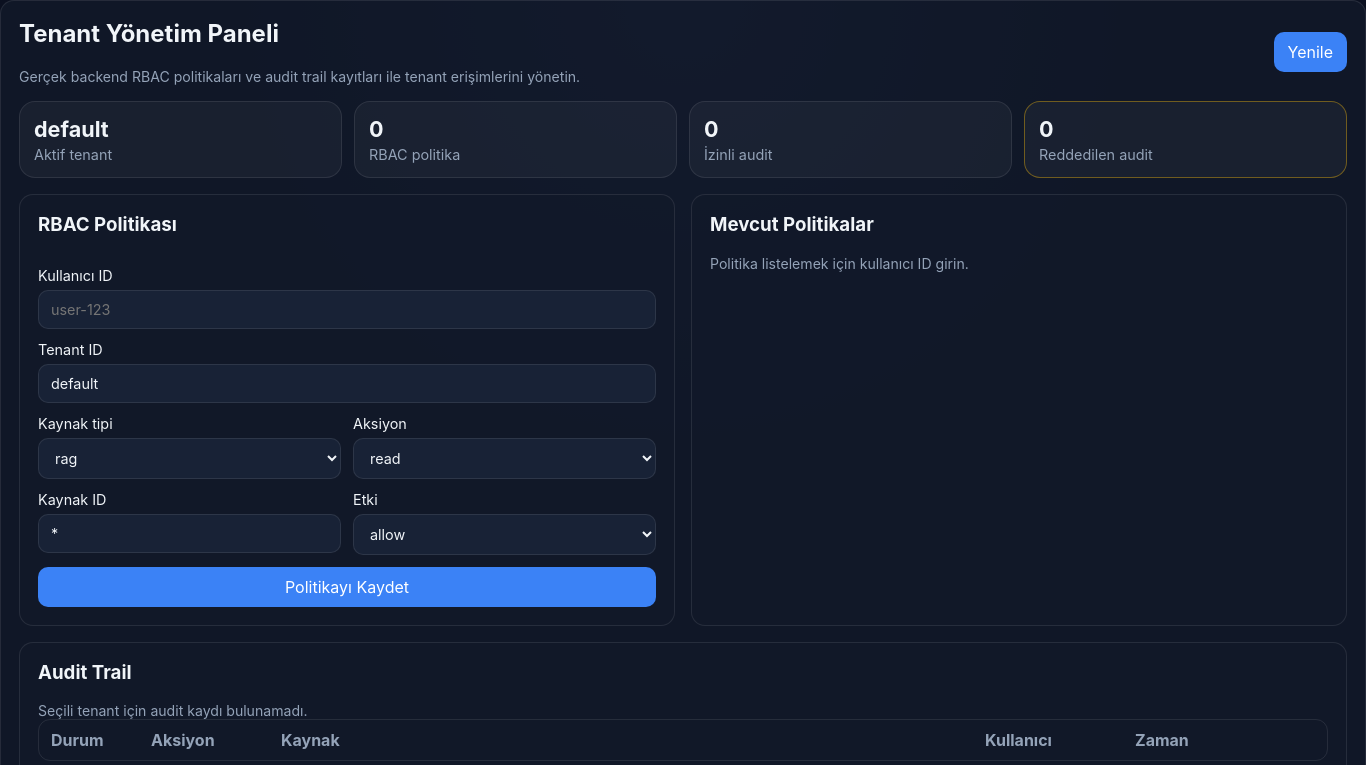
Test: TenantAdminPanel › falls back to empty arrays when audit and policy responses omit items
Step 1. Type "acme" into the field labelled "Tenant ID" → (347, 383), box [38,364,656,403]
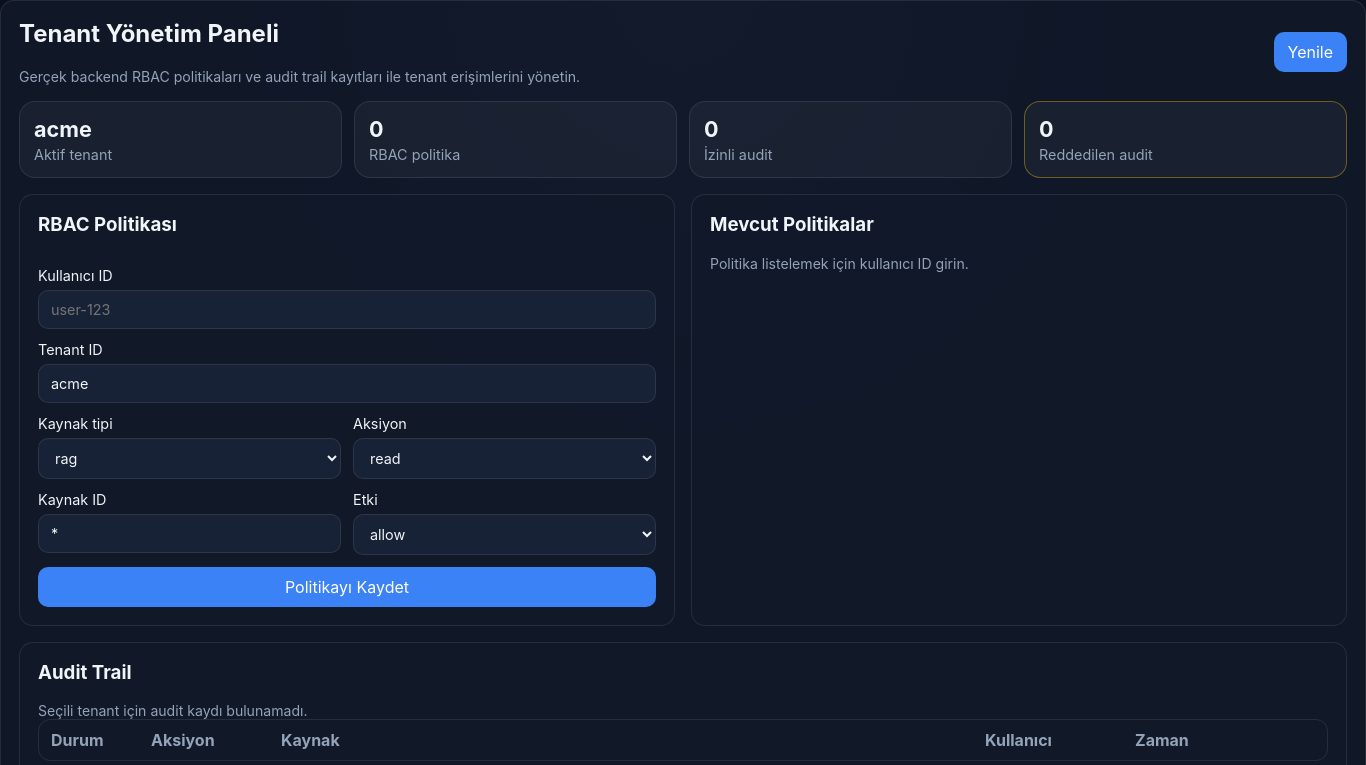
Step 2. Type "user-1" into the field labelled "Kullanıcı ID" → (347, 309), box [38,290,656,329]
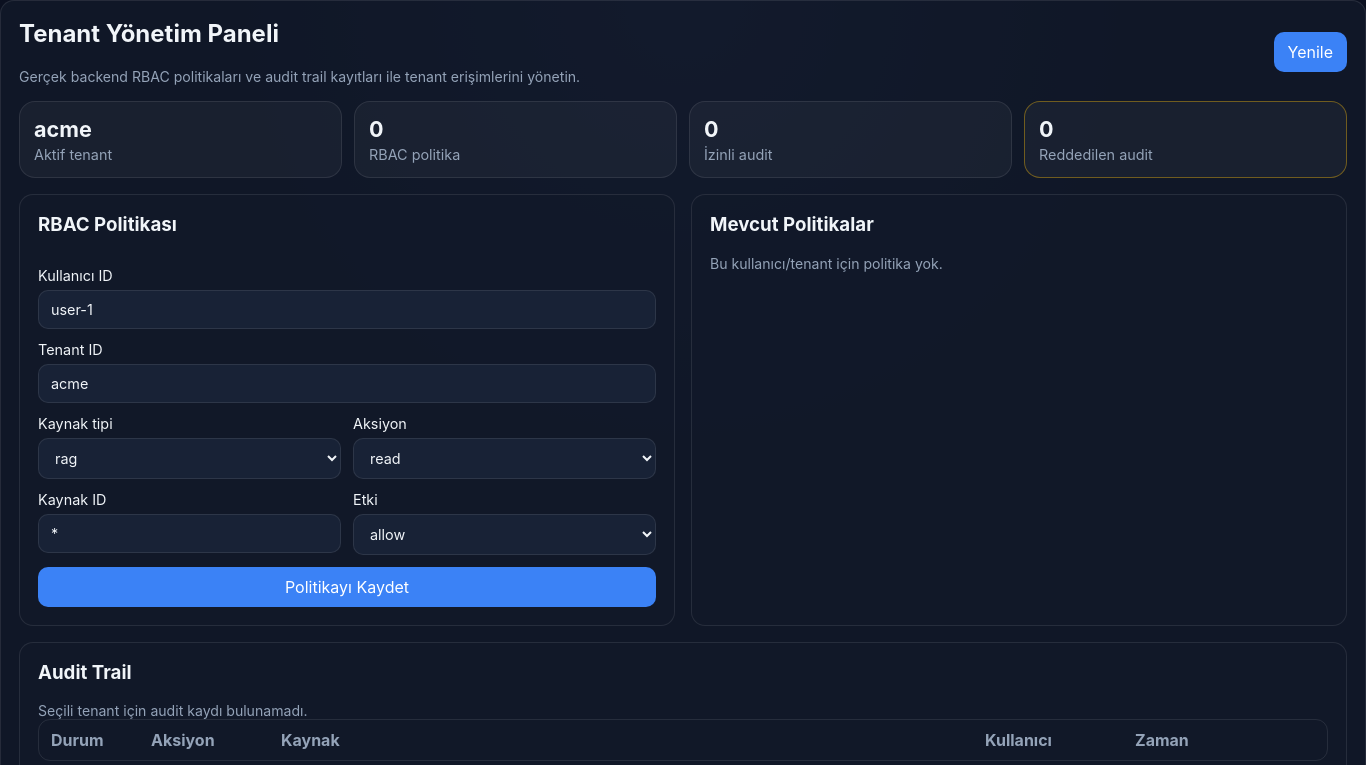
Check: the text "Bu kullanıcı/tenant için politika yok." is shown, box [710,255,943,272]
Step 3. Click the button "Politikayı Kaydet" → (347, 587), box [38,567,656,607]
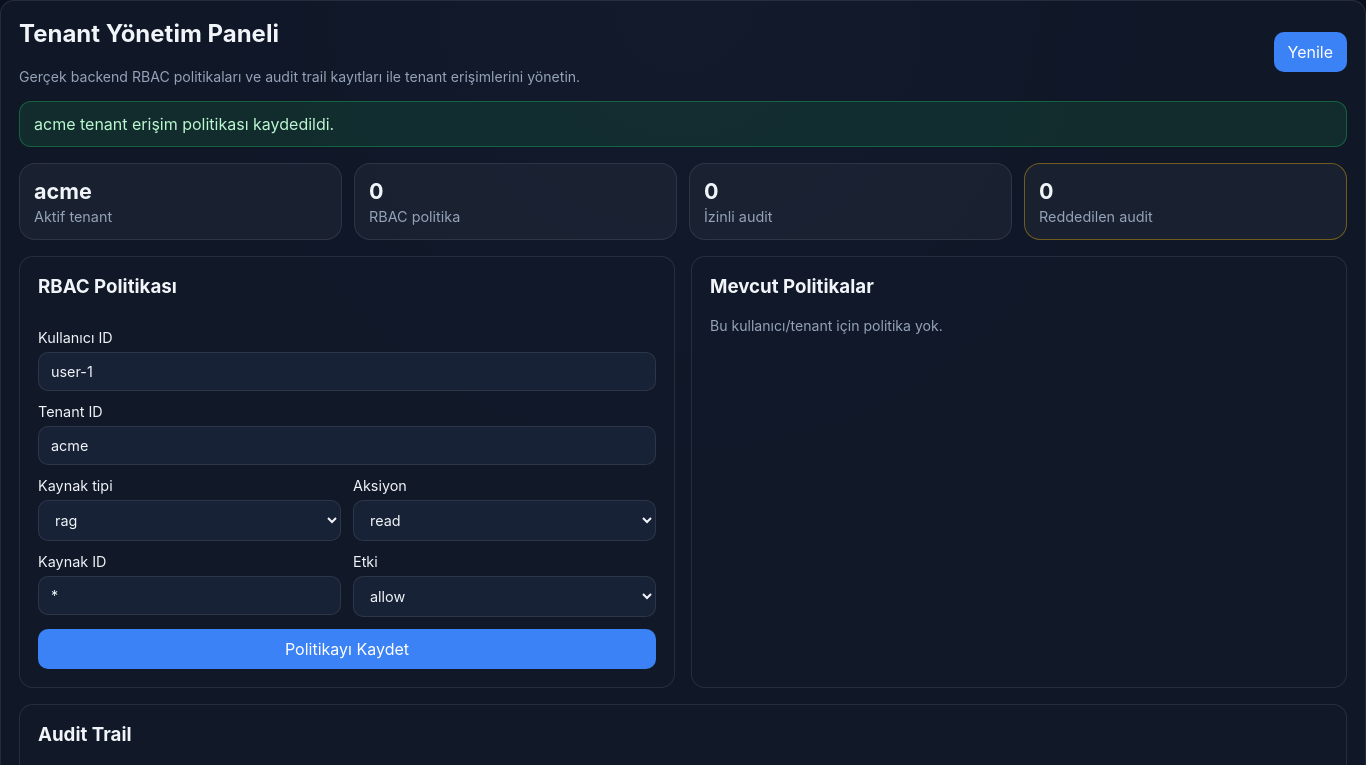
Check: the 1st text "0" is shown, box [369,178,384,204]
Check: the text "acme tenant erişim politikası kaydedildi." is shown, box [19,101,1347,147]
